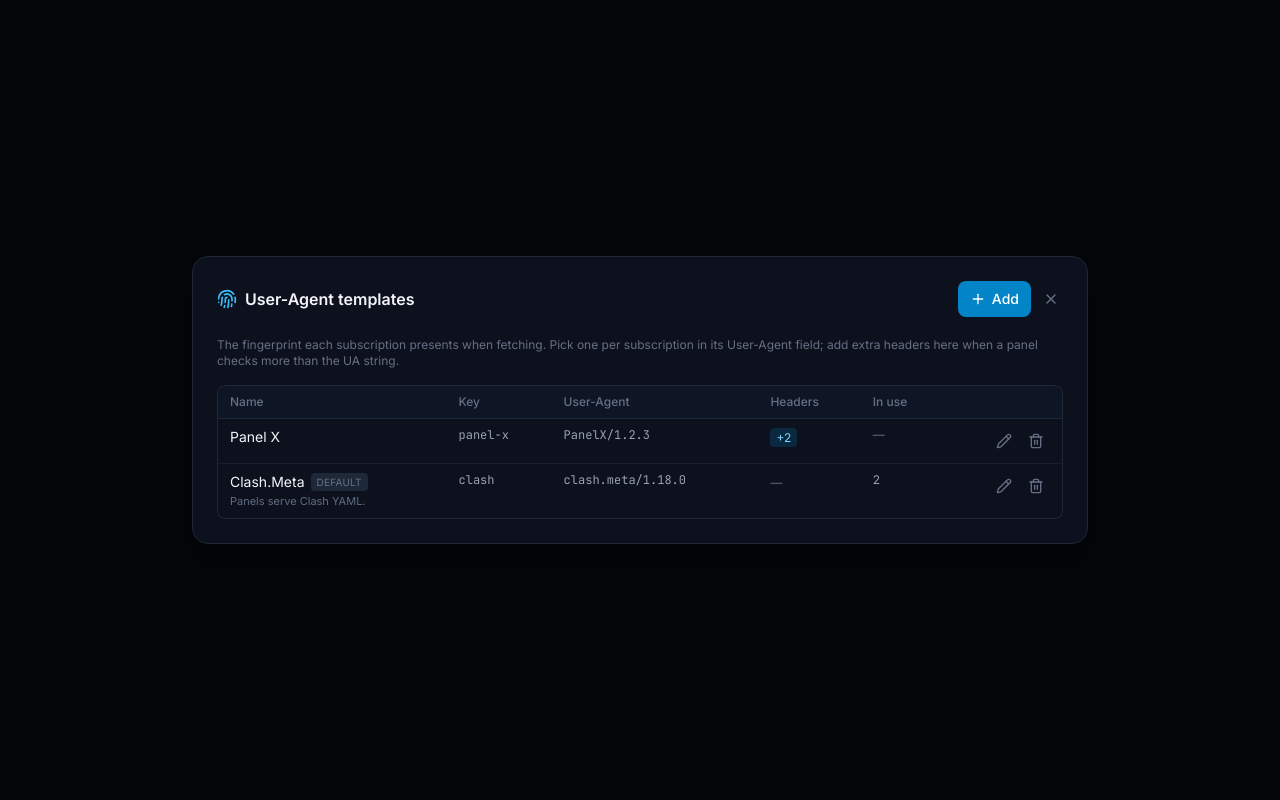
it: <UserAgentTemplatesModal> › blocks a non-ASCII header value
Expected: the text "Panel X" is shown, [230,427,280,447]
Step 1. Click the button "Add" → (994, 299), box [958,281,1031,317]
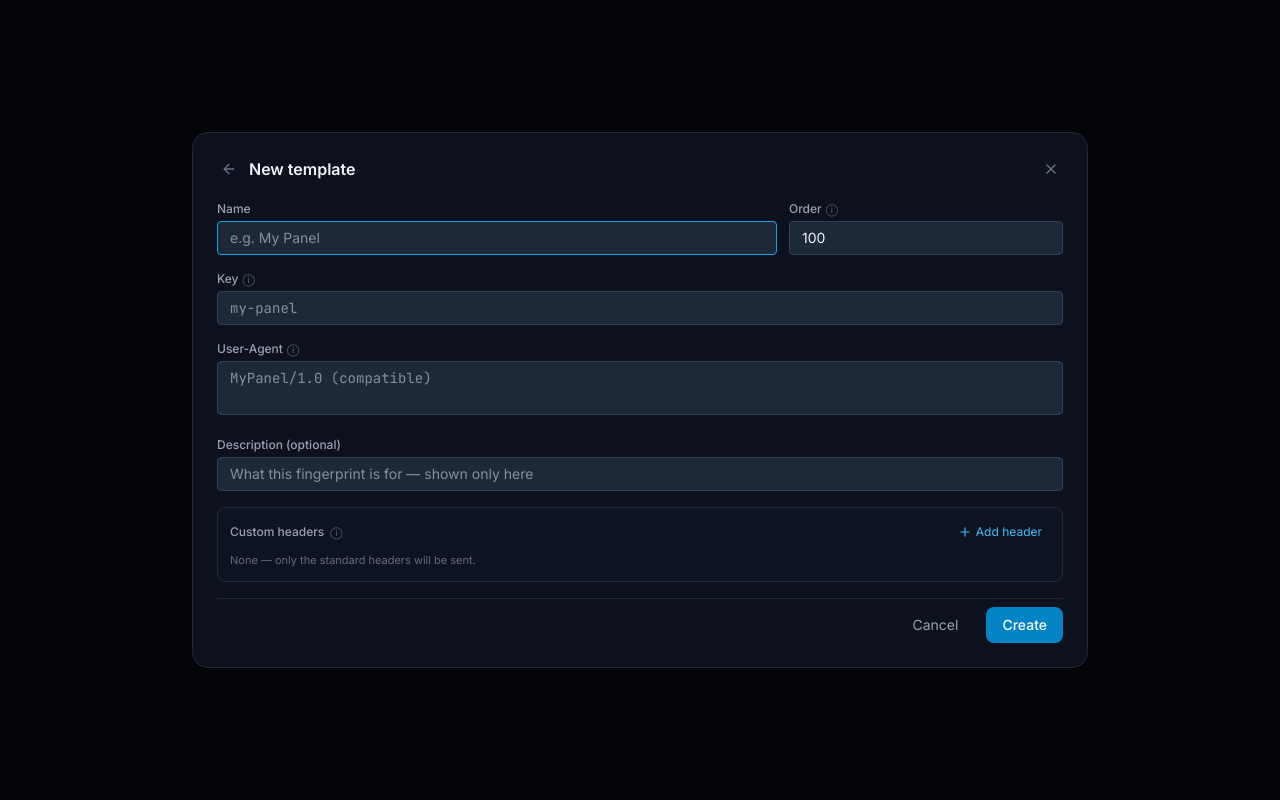
Step 2. Type "V" into the field labelled "Name" → (497, 238), box [217,221,777,255]
Step 3. Type "v" into the field labelled "Key" → (640, 308), box [217,291,1063,325]
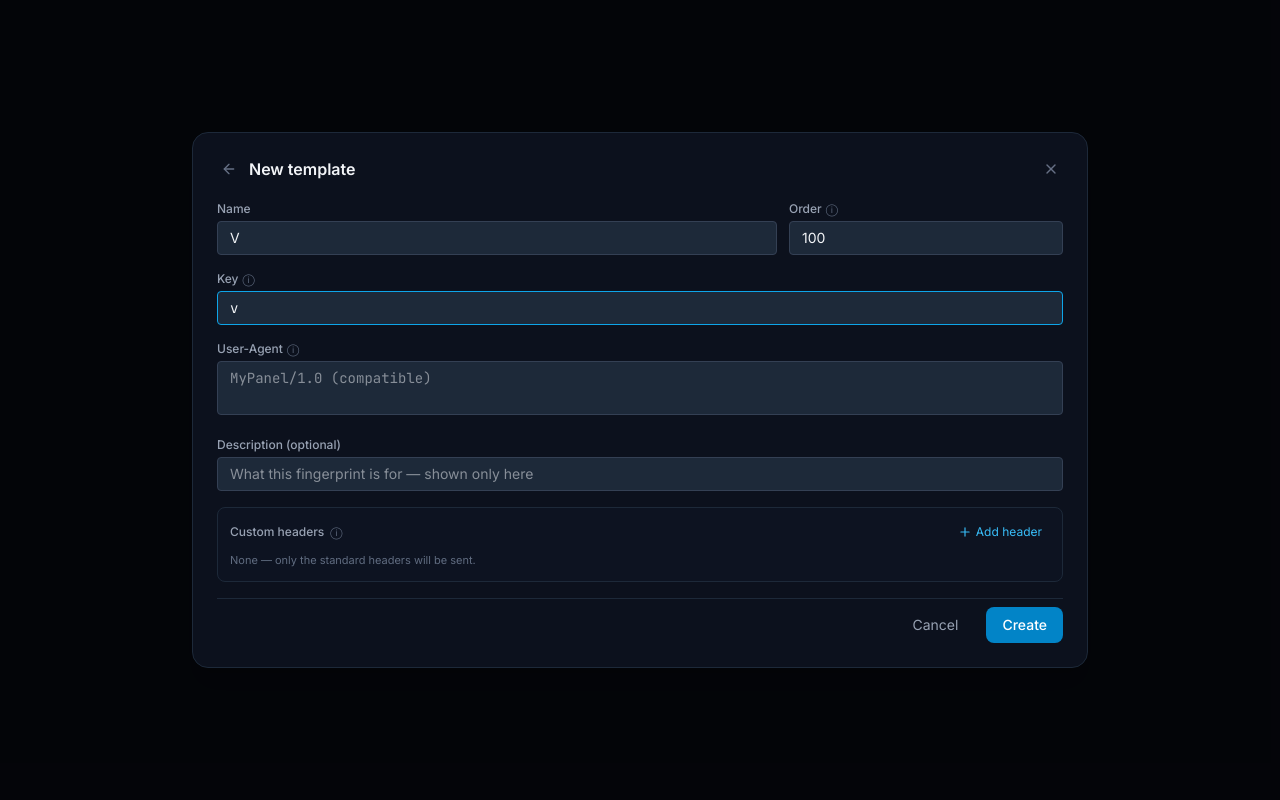
Step 4. Type "V/1.0" into the text box labelled "User-Agent" → (640, 388), box [217,361,1063,415]
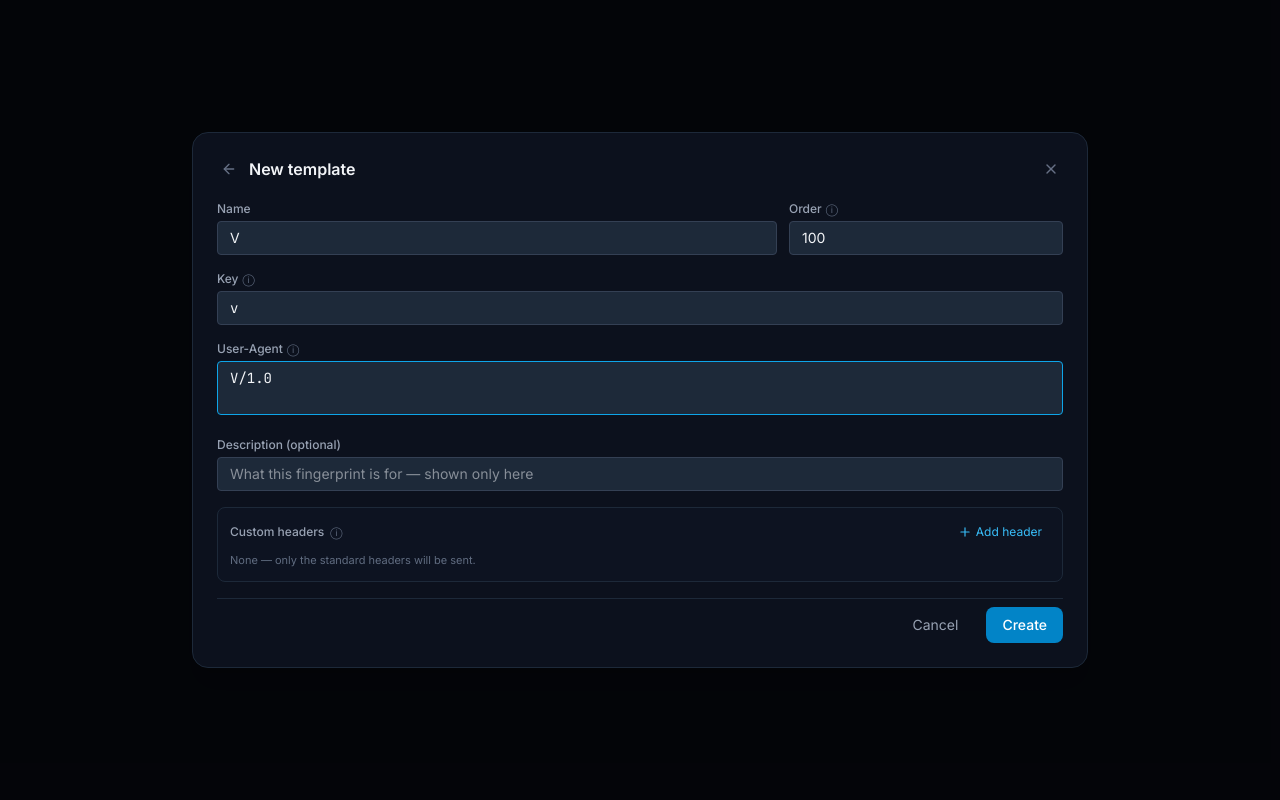
Step 5. Click the button "Add header" → (1000, 532), box [950,520,1050,544]
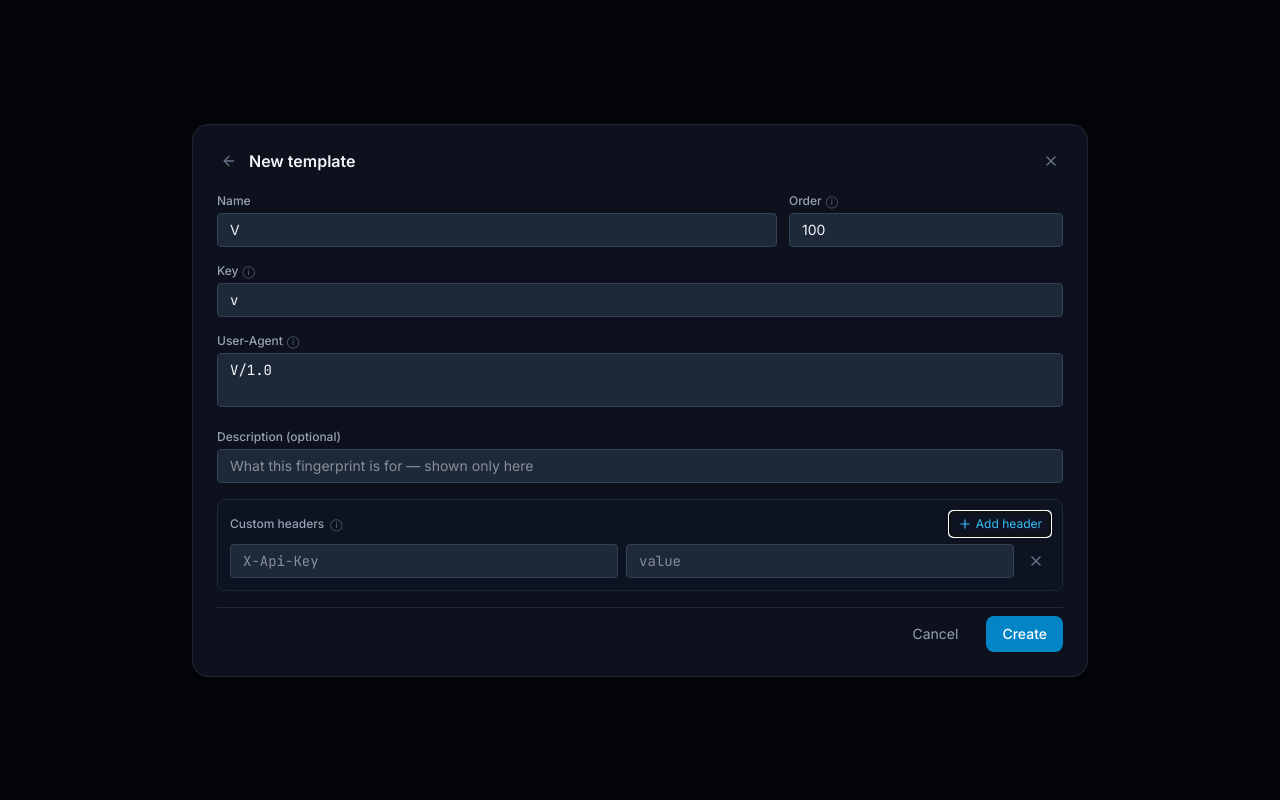
Step 6. Type "X-Ok" into the field named "header 1 name" → (424, 560), box [230,544,618,578]
Step 7. Type "значение" into the field named "header 1 value" → (820, 560), box [626,544,1014,578]
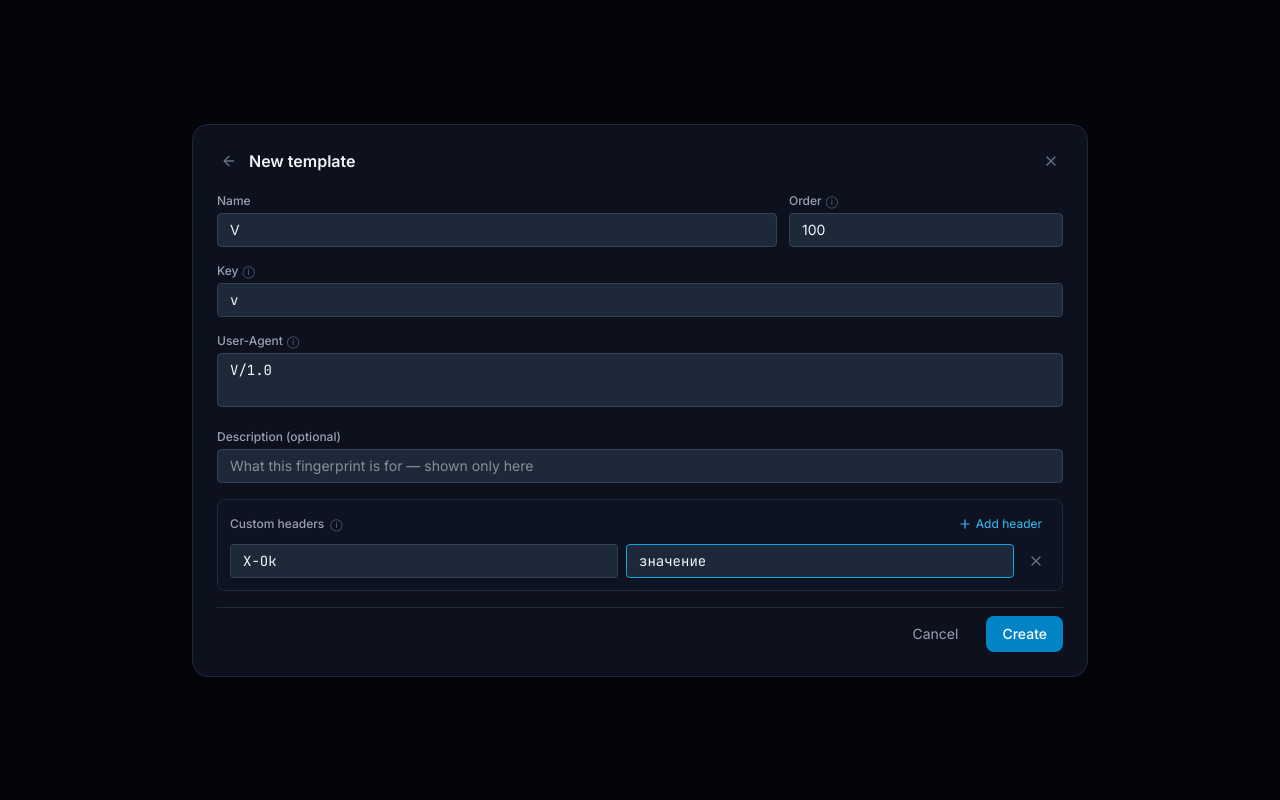
Step 8. Click the button "Create" → (1025, 634), box [986,616,1063,652]
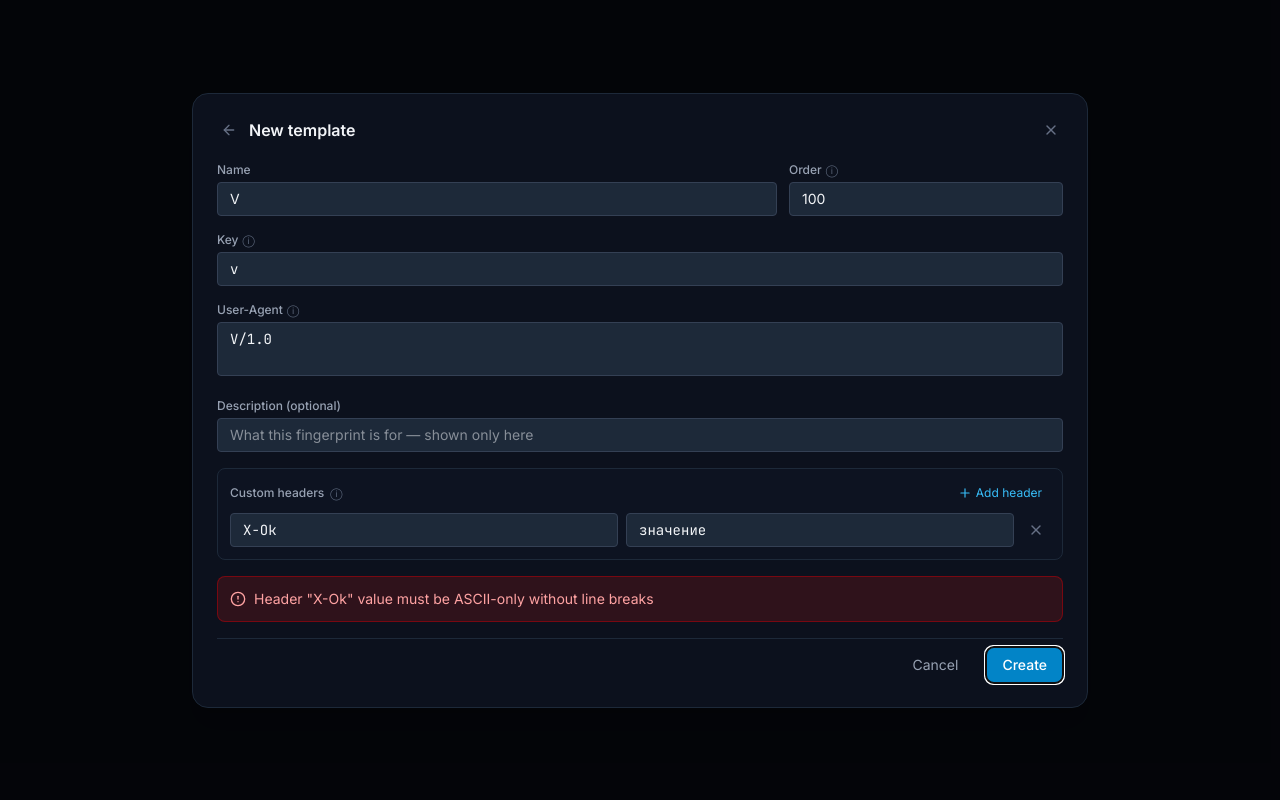
Expected: the message shows "ASCII", [254,590,654,606]
